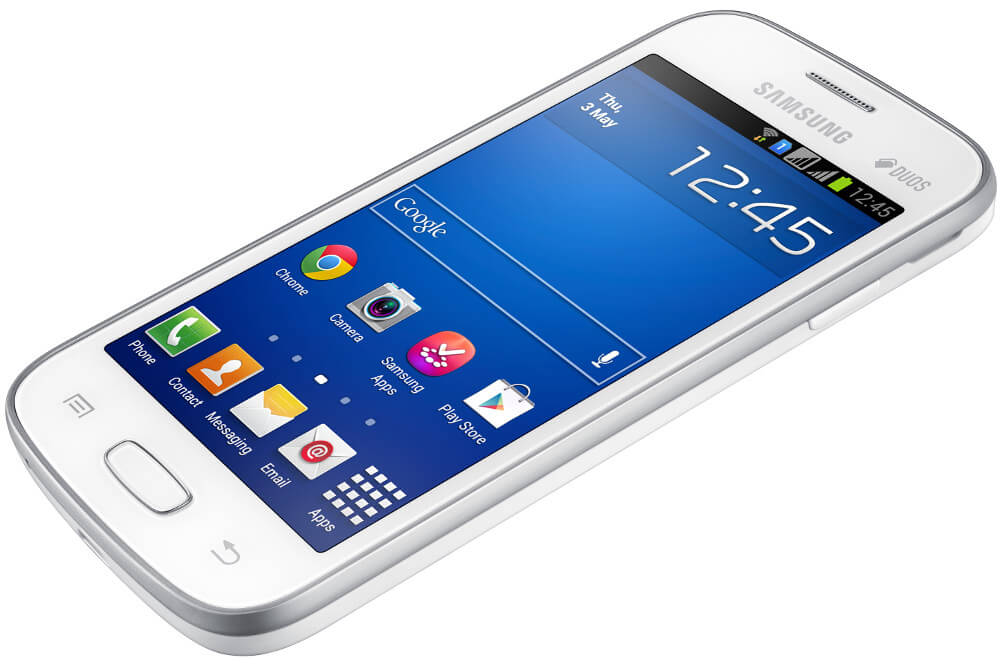mobile: (9, 5, 1000, 661)
